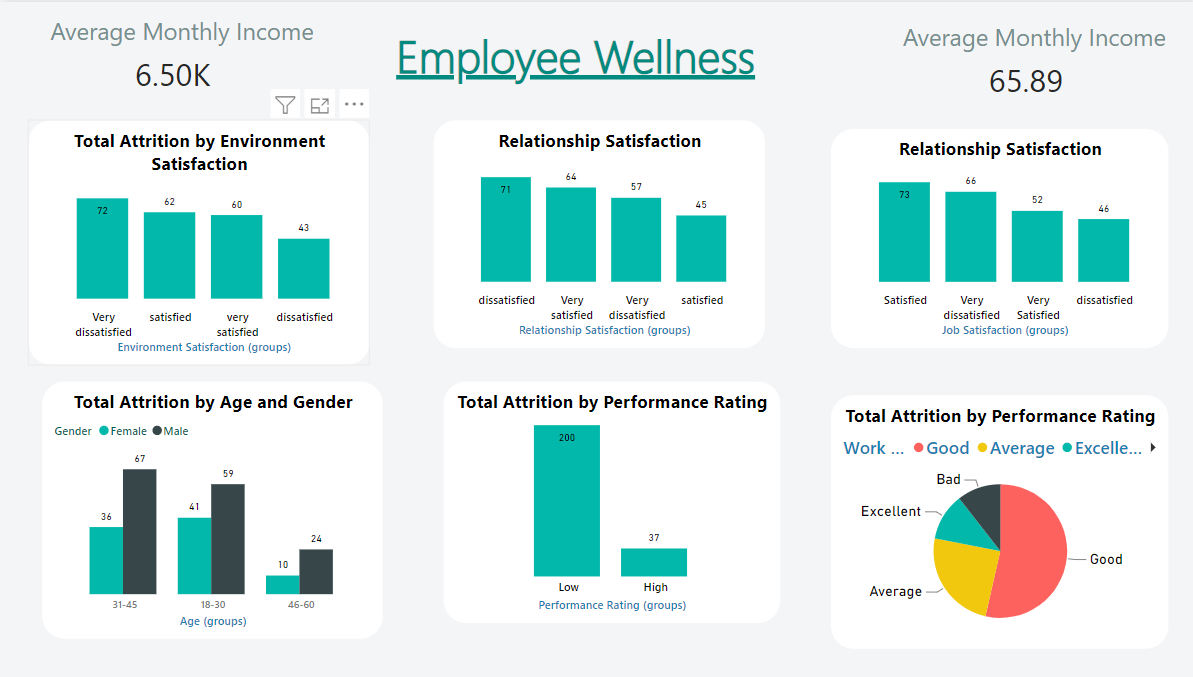

What the dashboard file says about the page in this screenshot:
{"tool":"powerbi","page":{"name":"Page 4","canvas":[1280,720],"ordinal":4},"visuals":[{"type":"card","title":"Average Monthly Income","fields":{"Values":["Avg(HR data.Monthly Income)"]},"box":[30.7,16,310.7,93.3],"z":0},{"type":"card","title":"Count Of Job Role","fields":{"Values":["Count(HR data.Job Role)"]},"box":[1293.5,0,241.3,106.5],"z":1000},{"type":"textbox","box":[432,0,442.7,88],"z":2000},{"type":"columnChart","title":"Relationship Satisfaction","fields":{"Y":["Sum(HR data.Attrition Count)"],"Category":["HR data.Relationship Satisfaction (groups)"]},"box":[462.5,125,355.6,244.4],"z":3000},{"type":"columnChart","title":"Total Attrition by Performance Rating","fields":{"Category":["HR data.Performance Rating (groups)"],"Y":["Sum(HR data.Attrition Count)"]},"box":[473.3,404,360,276],"z":4000},{"type":"barChart","title":"Total Attrition By Job Involvement","fields":{"Y":["Sum(HR data.Attrition Count)"],"Category":["HR data.Job Involvement (groups)"]},"box":[44.4,419.4,365.3,272.2],"z":5000},{"type":"columnChart","title":"Total Attrition by Environment Satisfaction","fields":{"Y":["Sum(HR data.Attrition Count)"],"Category":["HR data.Environment Satisfaction (groups)"]},"box":[30.6,125,365.3,262.5],"z":6000},{"type":"pieChart","title":"Total Attrition by Performance Rating","fields":{"Y":["Sum(HR data.Attrition Count)"],"Category":["HR data.Work Life Balance (groups)"]},"box":[887.2,419.1,361.7,272.3],"z":7000},{"type":"columnChart","title":"Relationship Satisfaction","fields":{"Y":["Sum(HR data.Attrition Count)"],"Category":["HR data.Job Satisfaction (groups)"]},"box":[887.3,135.2,362,235.2],"z":8000},{"type":"card","title":"Average Monthly Income","fields":{"Values":["Avg(HR data.Hourly Rate)"]},"box":[930.7,16,308,94.7],"z":9000},{"type":"clusteredColumnChart","title":"Total Attrition by Age and Gender","fields":{"Category":["HR data.Age (groups)"],"Y":["Sum(HR data.Attrition Count)"],"Series":["HR data.Gender"]},"box":[45.1,404.2,364.8,276.1],"z":9001}]}

Visuals, with their boxes in screenshot pixels (x1, y1, x2, y2), scaled from the page's 1280x720 canvas onto the 1193x677 screenshot:
"Average Monthly Income" card: crop(29, 15, 318, 103)
textbox: crop(403, 0, 815, 83)
"Relationship Satisfaction" columnChart: crop(431, 118, 762, 347)
"Total Attrition by Performance Rating" columnChart: crop(441, 380, 777, 639)
"Total Attrition By Job Involvement" barChart: crop(41, 394, 382, 650)
"Total Attrition by Environment Satisfaction" columnChart: crop(29, 118, 369, 364)
"Total Attrition by Performance Rating" pieChart: crop(827, 394, 1164, 650)
"Relationship Satisfaction" columnChart: crop(827, 127, 1164, 348)
"Average Monthly Income" card: crop(867, 15, 1155, 104)
"Total Attrition by Age and Gender" clusteredColumnChart: crop(42, 380, 382, 640)
